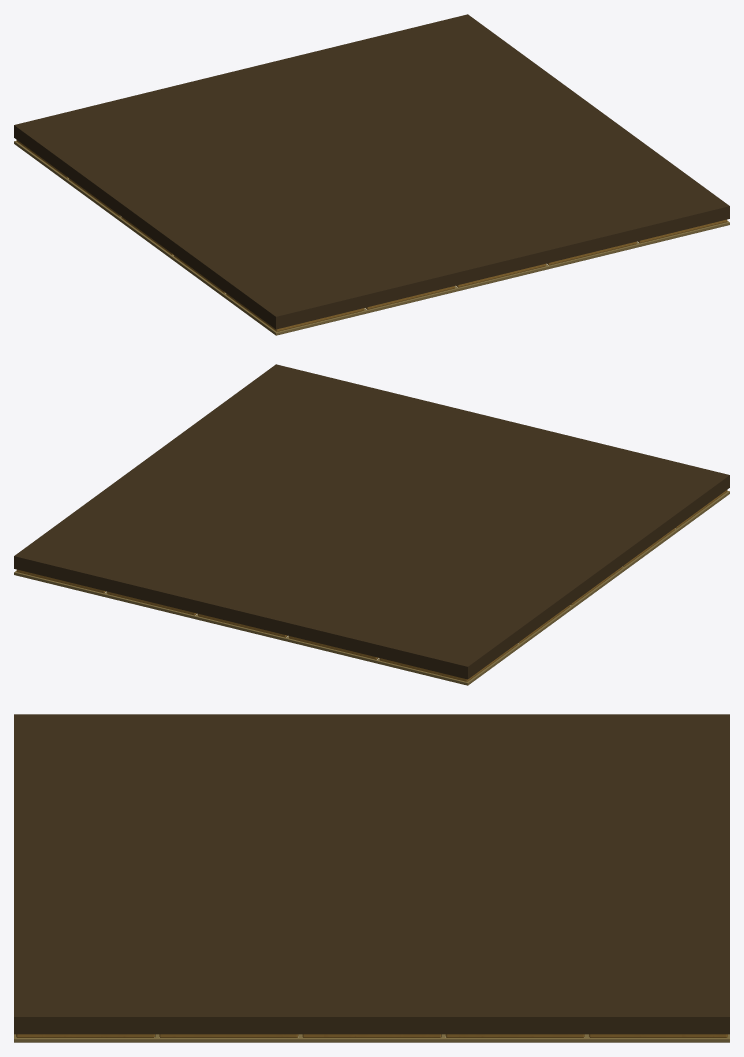
File: office_ceiling.glb
3 renders of one model, top to bottom at view 1: azimuth 30°, elevation 25°; view 2: azimuth 150°, elevation 25°; view 3: azimuth 270°, elevation 25°, orthographic. The views are drawn at different scales.
Parts seen in each view (by area): view 1: CeilingBacking, CeilingGrid, CeilingTiles; view 2: CeilingBacking, CeilingGrid, CeilingTiles; view 3: CeilingBacking, CeilingGrid, CeilingTiles.
Part boxes in pixels (left/top/right/bottom): CeilingBacking: left=14, top=14, right=729, bottom=329; CeilingGrid: left=14, top=140, right=729, bottom=335; CeilingTiles: left=16, top=140, right=727, bottom=331; CeilingBacking: left=14, top=364, right=729, bottom=679; CeilingGrid: left=14, top=490, right=729, bottom=685; CeilingTiles: left=16, top=490, right=727, bottom=681; CeilingBacking: left=14, top=714, right=729, bottom=1034; CeilingGrid: left=14, top=1034, right=729, bottom=1042; CeilingTiles: left=16, top=1034, right=727, bottom=1037.
Size of what is drawn, in the model's own units: 3 by 0.12 by 3.
Materials: 3 (1 with a texture image).
